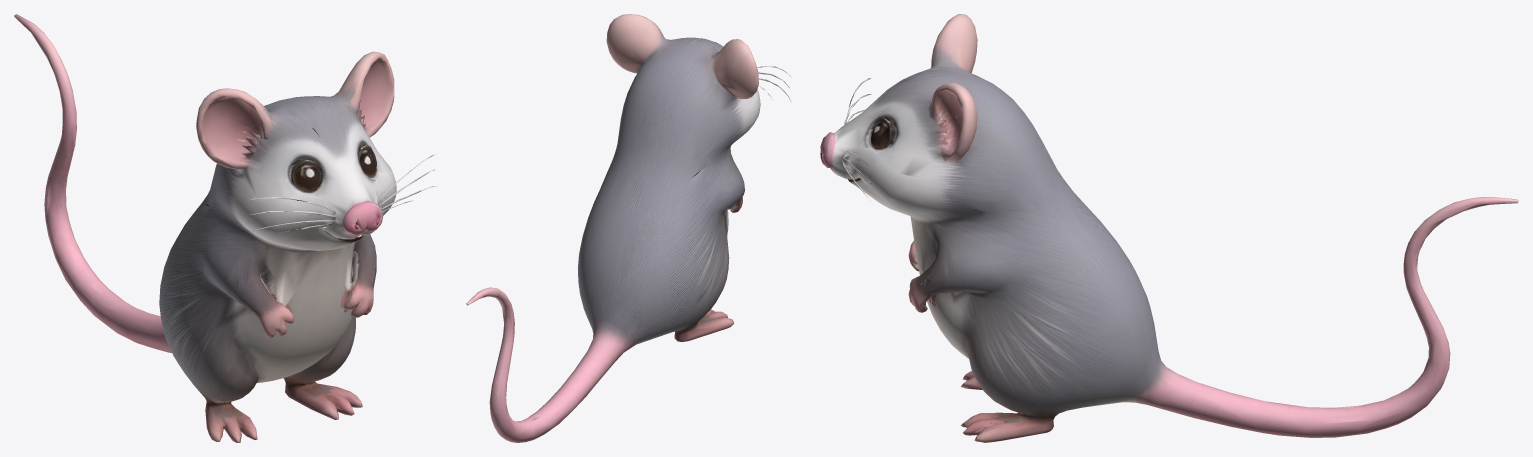
The model's file is C05_possum_hy_lod.glb.
The picture shows the model from 3 angles, left to right: view 1: azimuth 30°, elevation 25°; view 2: azimuth 150°, elevation 25°; view 3: azimuth 270°, elevation 25°; orthographic projection. The views are drawn at different scales.
Parts seen in each view (by area): view 1: C05_possum_hy; view 2: C05_possum_hy; view 3: C05_possum_hy.
Part boxes in pixels (x1=…): C05_possum_hy: x1=14, y1=14, x2=436, y2=442; C05_possum_hy: x1=466, y1=14, x2=791, y2=442; C05_possum_hy: x1=820, y1=14, x2=1518, y2=442.
Size of what is drawn, in the model's own units: 0.3686 by 0.6997 by 1.15.
Materials: 1 (1 with a texture image).
